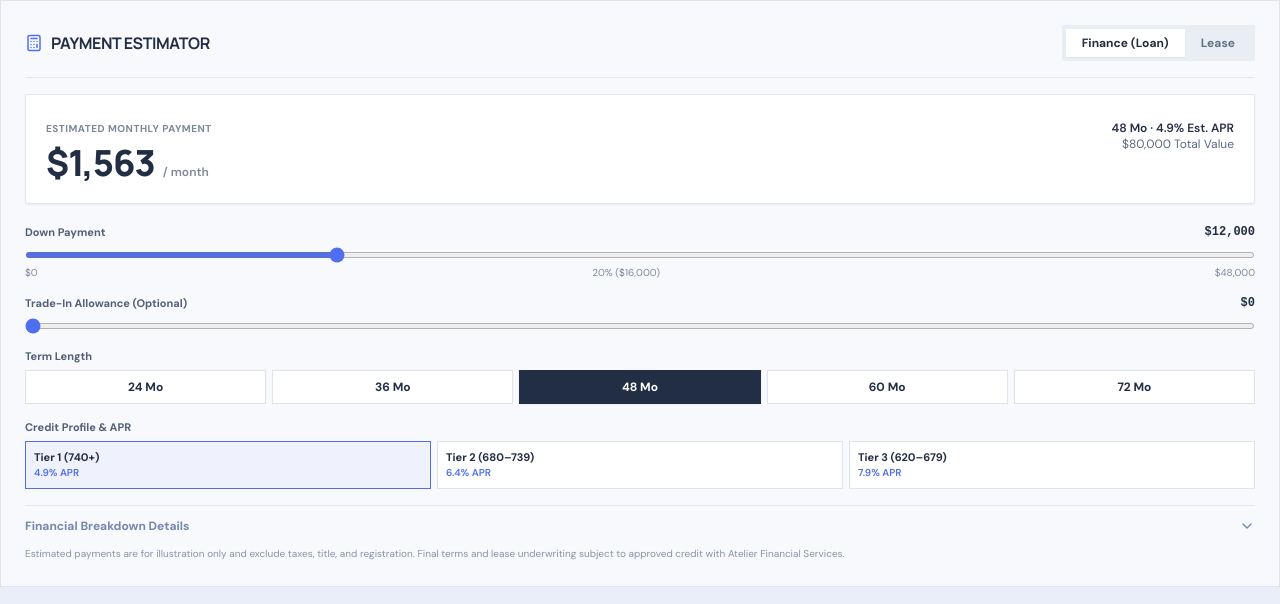
it: PaymentCalculator Component › renders monthly payment estimate and allows toggling between loan and lease
The width and height of the screenshot is (1280, 604).
Check: the heading "Payment Estimator" is shown, box top-left (51, 31), bottom-right (210, 55)
Check: the text "Estimated Monthly Payment" is shown, box top-left (46, 122), bottom-right (212, 135)
Switch to lease
Click the tab "Lease": (1218,43) top-left (1185, 29), bottom-right (1251, 57)
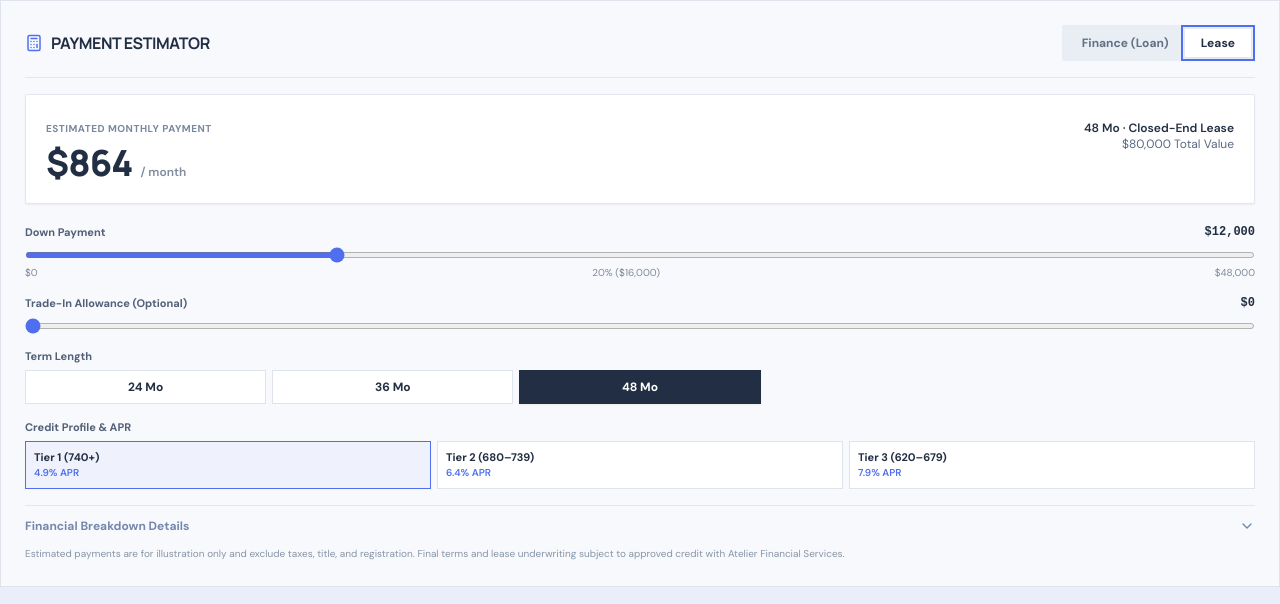
Check: the text "48 Mo · Closed-End Lease" is shown, box top-left (1084, 120), bottom-right (1234, 136)
